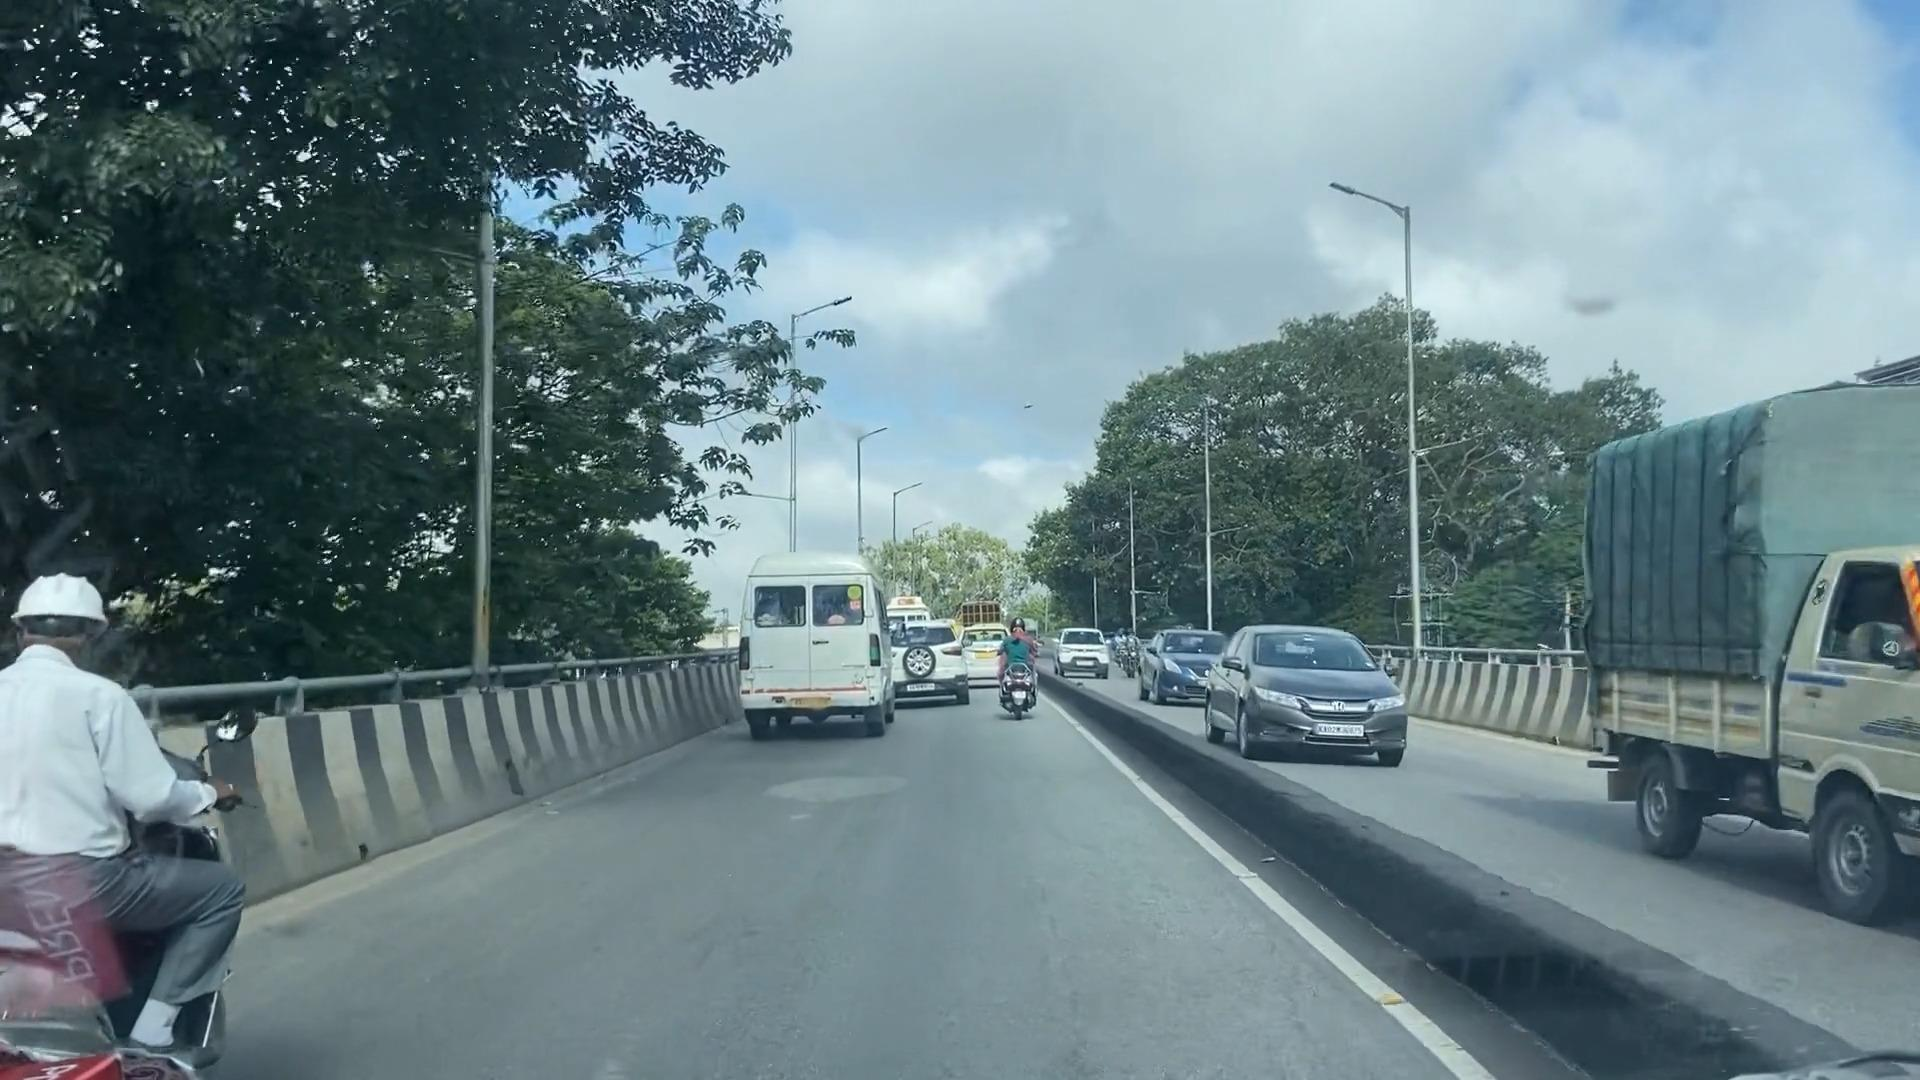HMV: (737, 567, 885, 707)
LMV: (0, 570, 294, 1080), (997, 615, 1030, 720)
RoadDamages: (770, 762, 910, 811)
